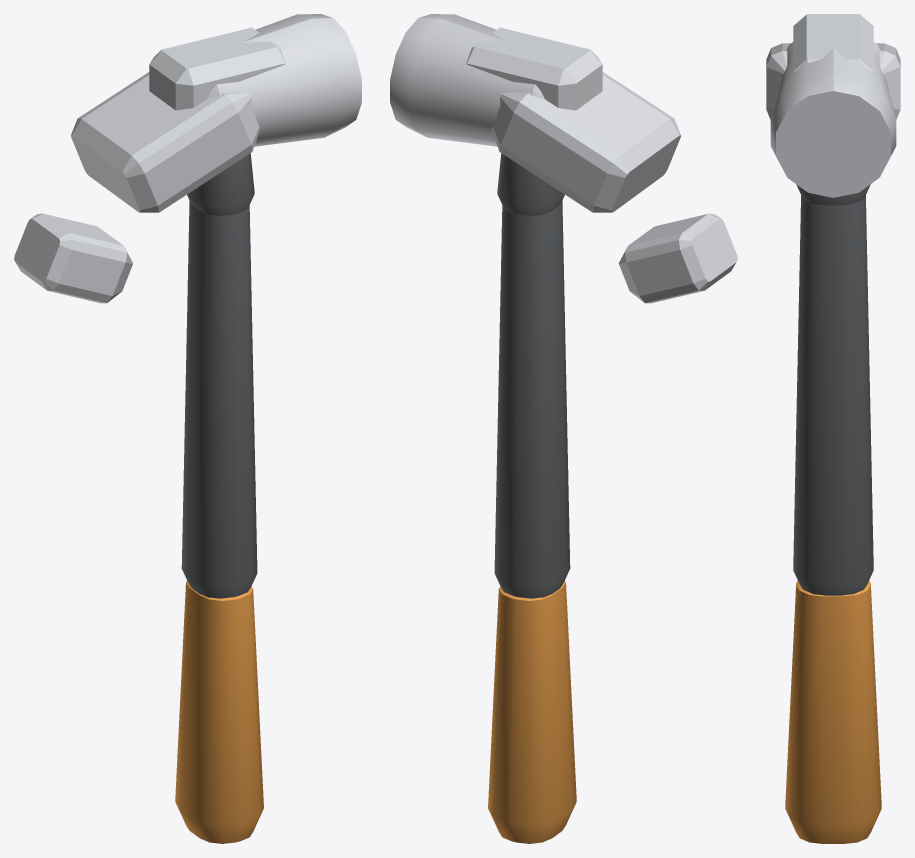
3 renders of one model, left to right at view 1: azimuth 30°, elevation 25°; view 2: azimuth 150°, elevation 25°; view 3: azimuth 270°, elevation 25°, orthographic.
Parts seen in each view (by area): view 1: claw-hammer; view 2: claw-hammer; view 3: claw-hammer.
Part boxes in pixels (box(x1,y1,x2,y2)): claw-hammer: box(14, 14, 361, 843); claw-hammer: box(390, 14, 737, 843); claw-hammer: box(766, 14, 900, 843).
Size of the model in its own units: 0.1337 by 0.334 by 0.05.
